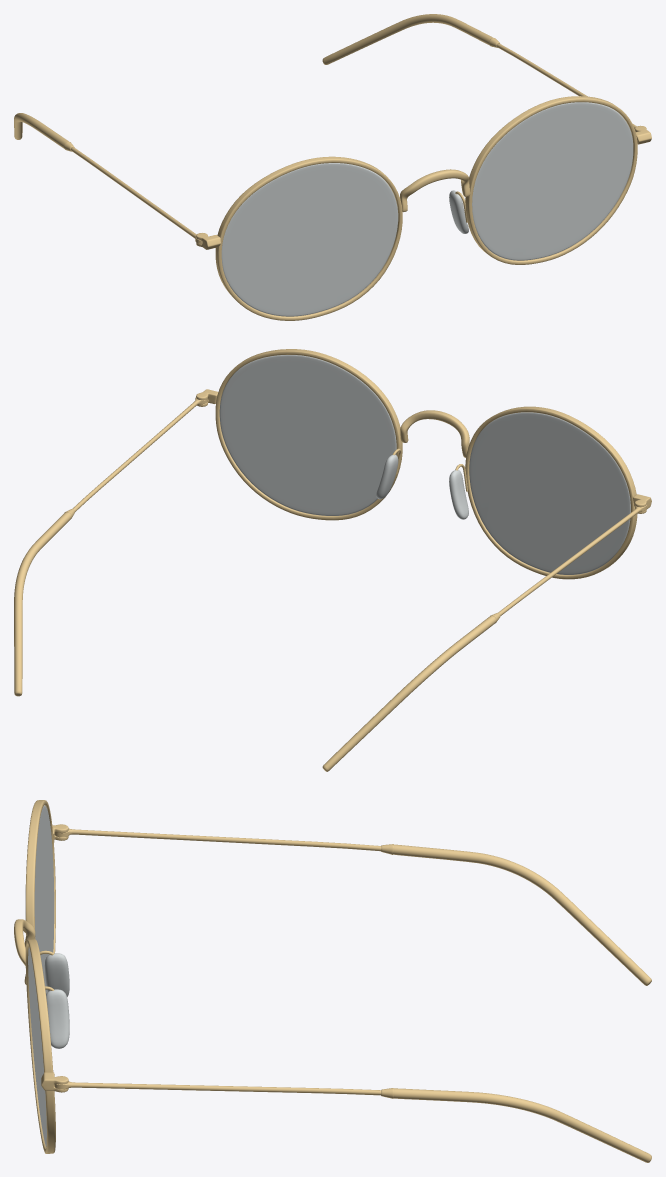
File: ottensen.glb
3 renders of one model, top to bottom at view 1: azimuth 30°, elevation 25°; view 2: azimuth 150°, elevation 25°; view 3: azimuth 270°, elevation 25°, orthographic. The views are drawn at different scales.
Parts seen in each view (by area): view 1: ottensen; view 2: ottensen; view 3: ottensen.
Part boxes in pixels (x1,y1,x2,y2): ottensen: (14, 14, 651, 320); ottensen: (14, 349, 651, 771); ottensen: (14, 800, 651, 1162).
Size of the model in its own units: 13.4 by 4.62 by 14.
